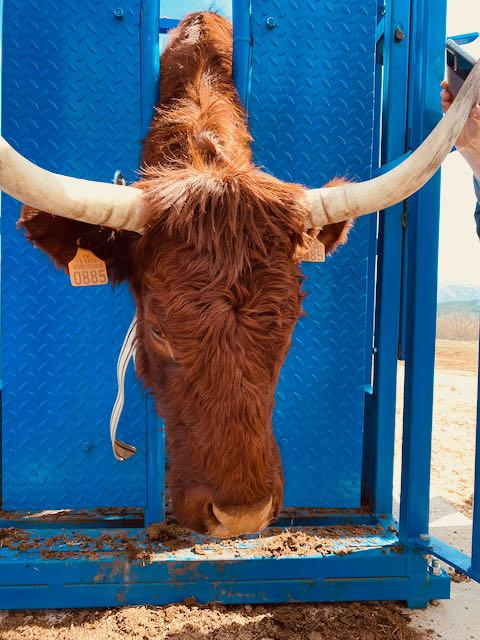muzzles: (184, 495, 283, 539)
